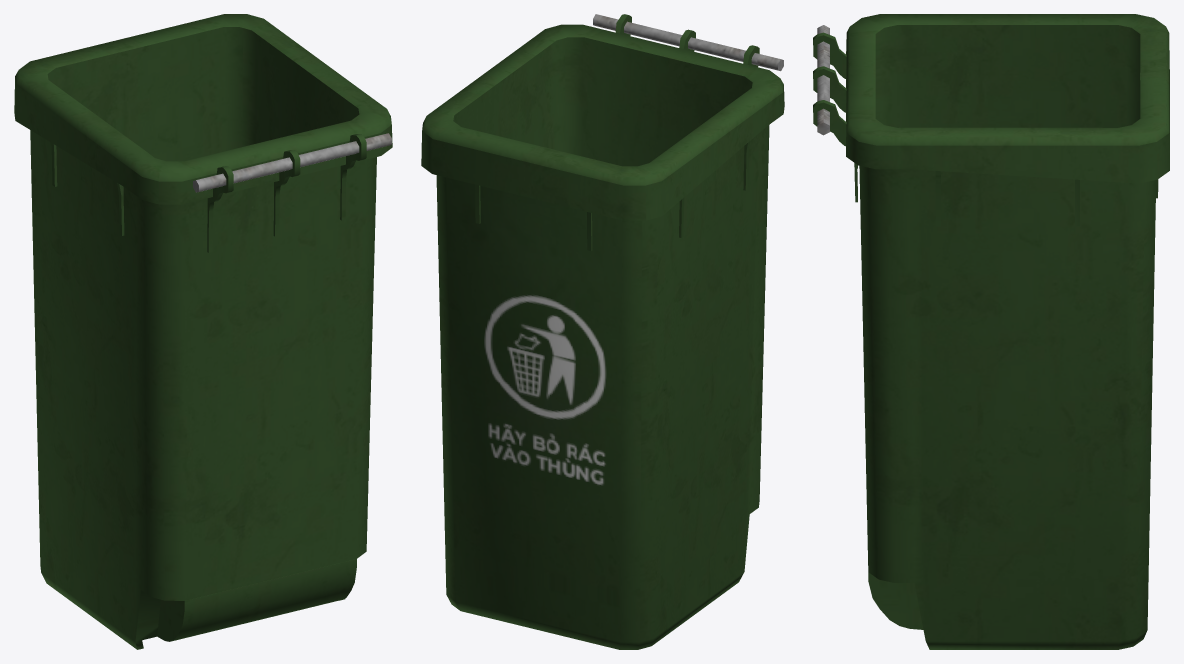
The model's file is TrashBin.fbx.
The picture shows the model from 3 angles, left to right: view 1: azimuth 30°, elevation 25°; view 2: azimuth 150°, elevation 25°; view 3: azimuth 270°, elevation 25°; orthographic projection. The views are drawn at different scales.
Visible parts, largest first — view 1: TrashBin; view 2: TrashBin; view 3: TrashBin.
Part boxes in pixels (left/top/right/bottom): TrashBin: left=14, top=14, right=392, bottom=649; TrashBin: left=421, top=14, right=784, bottom=649; TrashBin: left=813, top=14, right=1169, bottom=649.
Size of the model in its own units: 56.94 by 111 by 67.96.
Materials: 1 (1 with a texture image).
